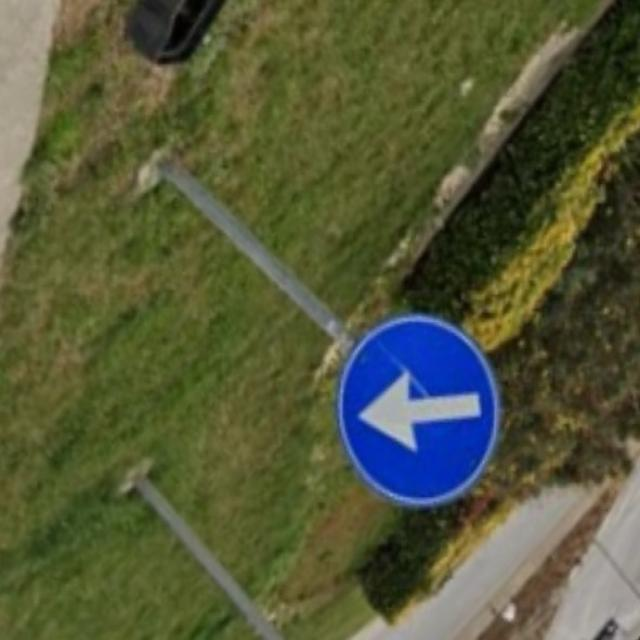Turn Left: (332, 321, 506, 506)
